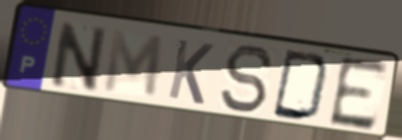D: (269, 48, 333, 124)
E: (326, 54, 391, 134)
K: (165, 37, 216, 108)
M: (101, 27, 166, 101)
N: (49, 19, 109, 93)
S: (218, 42, 276, 115)
